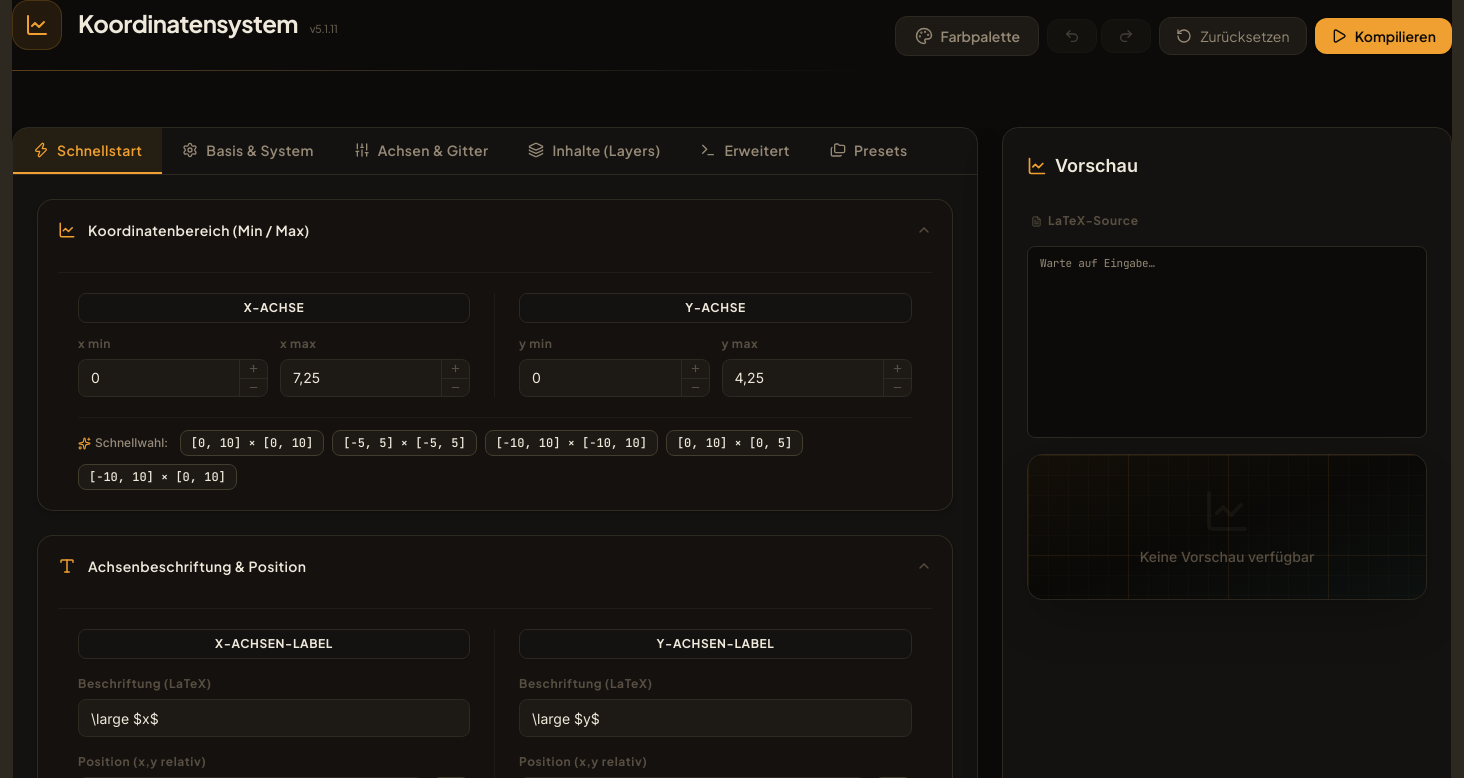
Test case: KoordPage Integration Flow (Archetyp Generator-Page) › zeigt bei einem LaTeX-Kompilierfehler (compileLatex ok: false) das Fehler-Panel in der Vorschau
What coordinates should you click on to do the following:
click the button "Kompilieren"
I would click on:
 (1383, 36)
Its box is [1314,18,1452,54].
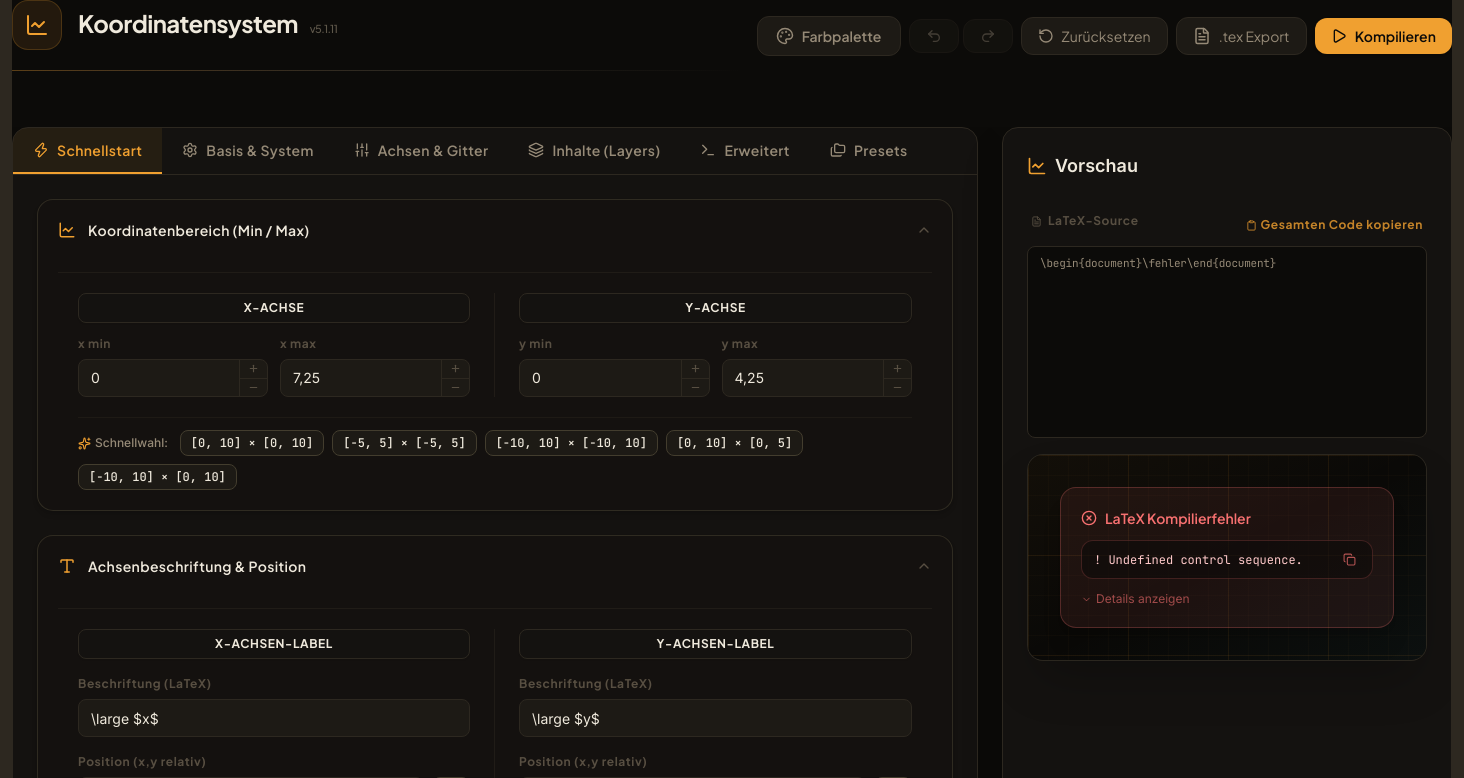
Result: the text "LaTeX Kompilierfehler" is shown at [1105,508,1251,528]
Result: the text "! Undefined control sequence." is shown at [1094,552,1331,568]
